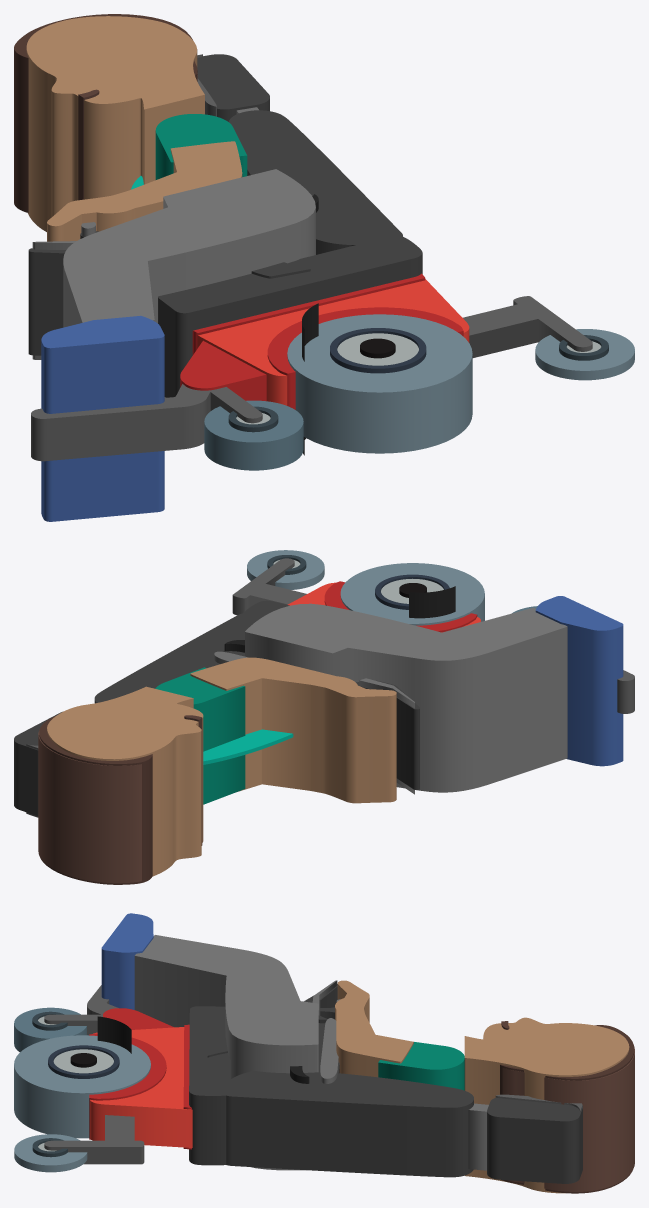
The model's file is emoji_u1f468_1f3fd_200d_1f9bc.glb.
3 views of the same model, one above another, from view 1: azimuth 30°, elevation 25°; view 2: azimuth 150°, elevation 25°; view 3: azimuth 270°, elevation 25° (orthographic). The views are drawn at different scales.
Visible parts, largest first — view 1: emoji_u1f468_1f3fd_200d_1f9bc; view 2: emoji_u1f468_1f3fd_200d_1f9bc; view 3: emoji_u1f468_1f3fd_200d_1f9bc.
Boxes of the visible parts, box(x1,y1,x2,y2) form: emoji_u1f468_1f3fd_200d_1f9bc: box(14, 14, 634, 521); emoji_u1f468_1f3fd_200d_1f9bc: box(14, 550, 634, 884); emoji_u1f468_1f3fd_200d_1f9bc: box(14, 913, 634, 1193).
Bounding box in the file's own units: 0.0242 × 0.0074 × 0.0324.
